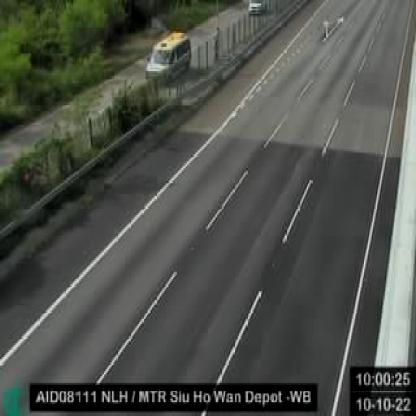Bus: (143, 30, 192, 80)
Car: (249, 1, 265, 13)
